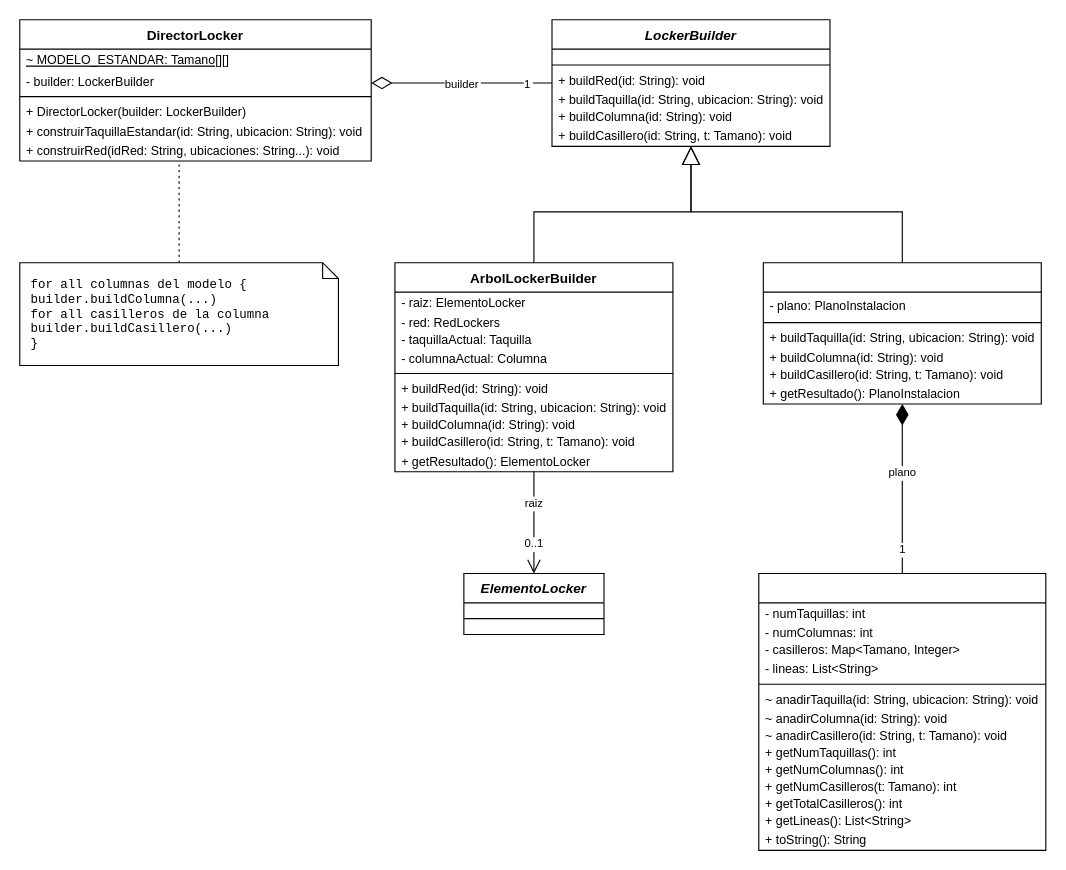
The diagram is 1066 pixels wide and 870 high, and some of its shapes have lost their labels. The shapes that lost their labels are listed below. From the top down, each one's box as (x1, y1, x2, y2) in pixels, then its label:
(762, 262, 1041, 404): PlanoLockerBuilder
(758, 572, 1046, 850): PlanoInstalacion
